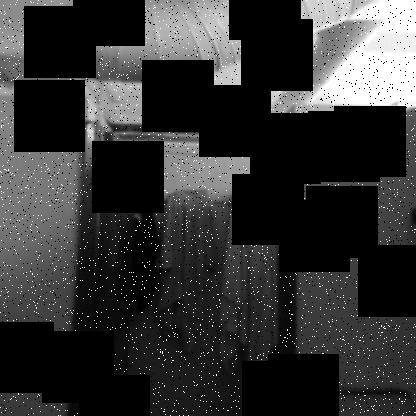Porte: (68, 121, 301, 415)
